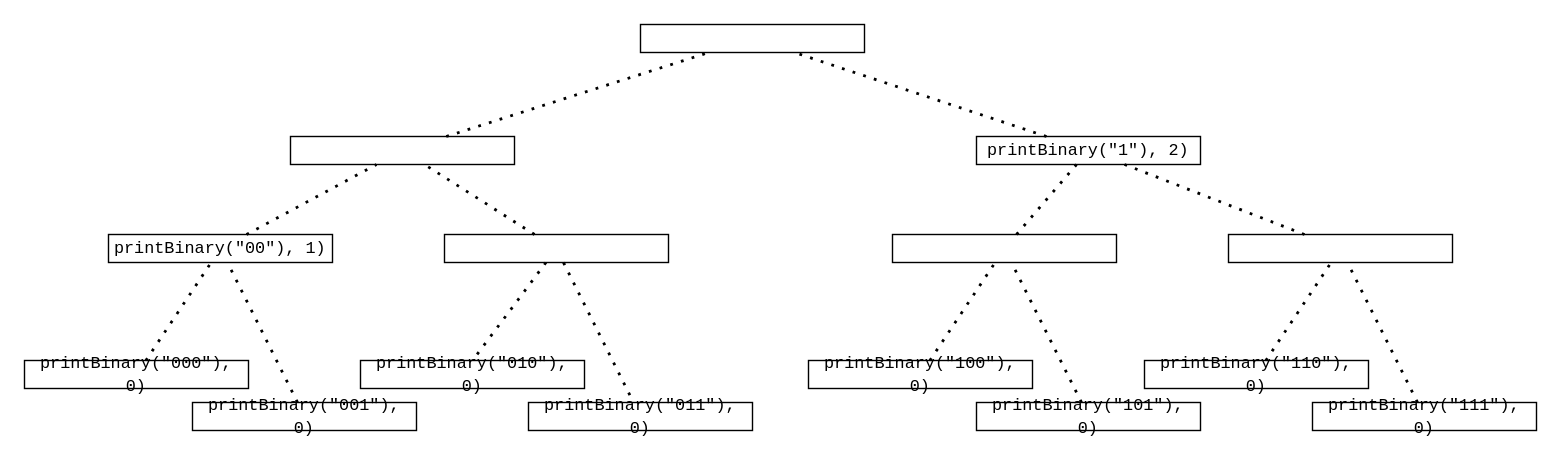
Image size: 1561x462. Some labels were removed from this diagram. Each missing label, with the centre of its shape:
printBinary(""), 3): point 751,37
printBinary("0"), 2): point 401,149
printBinary("01"), 1): point 555,247
printBinary("10"), 1): point 1003,247
printBinary("11"), 1): point 1339,247
